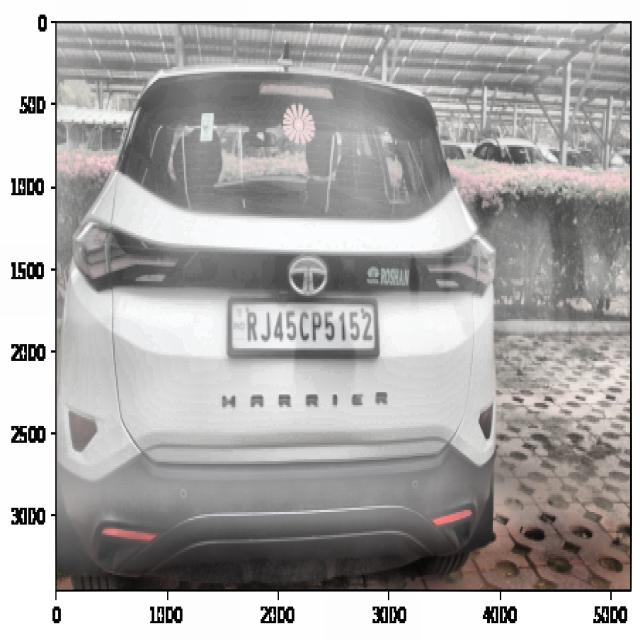license_plate: (237, 304, 382, 361)
